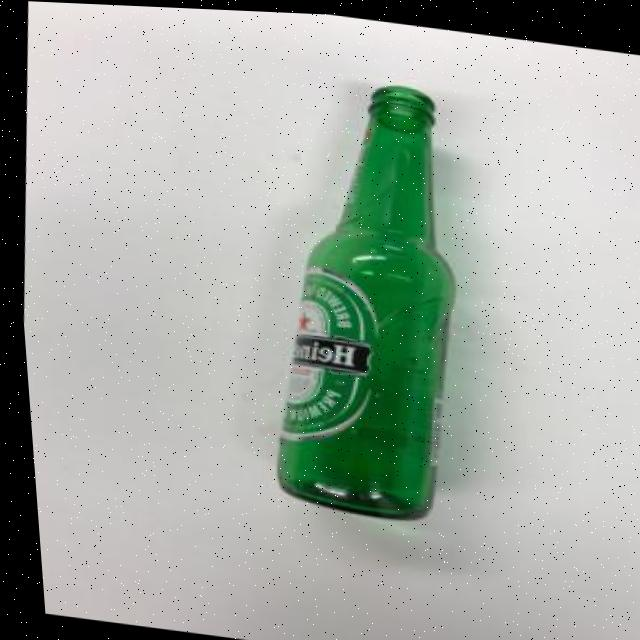glass: (230, 72, 483, 527)
